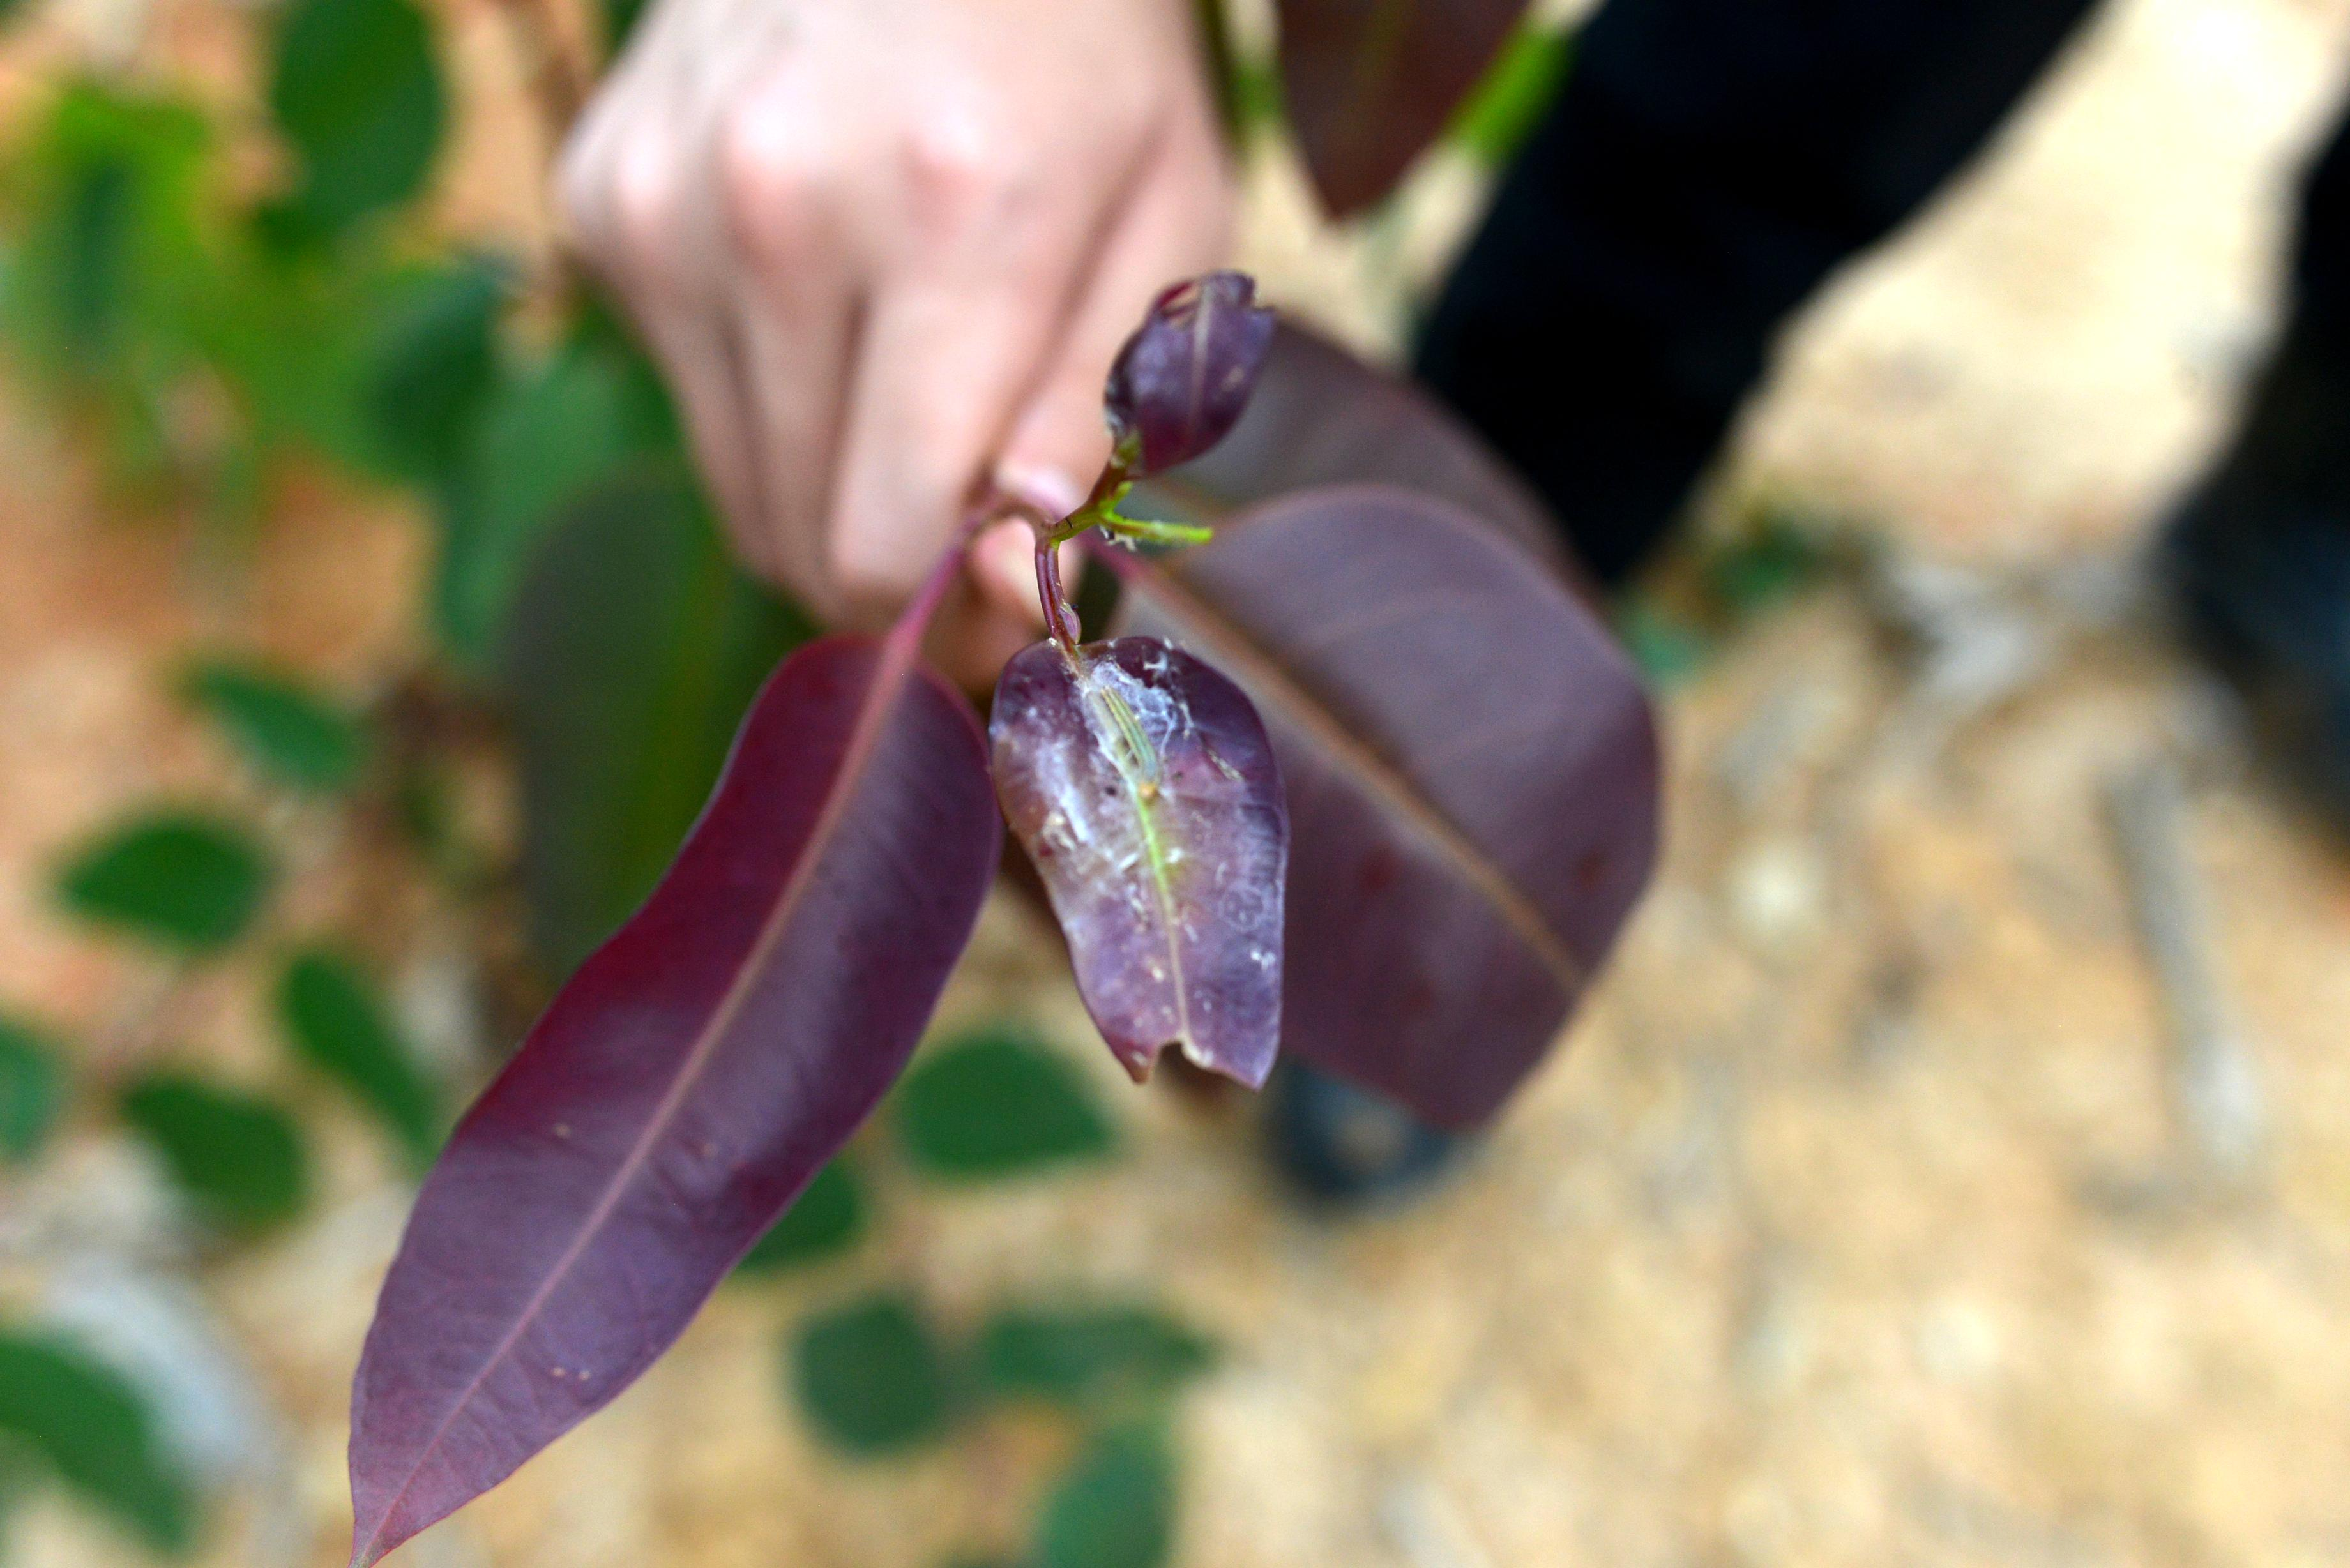Leaf Roller - Leaf: (994, 623, 1291, 1081), (1102, 252, 1276, 507)
